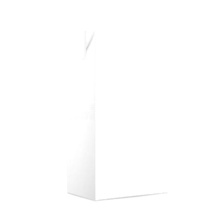carton: (63, 25, 172, 201)
